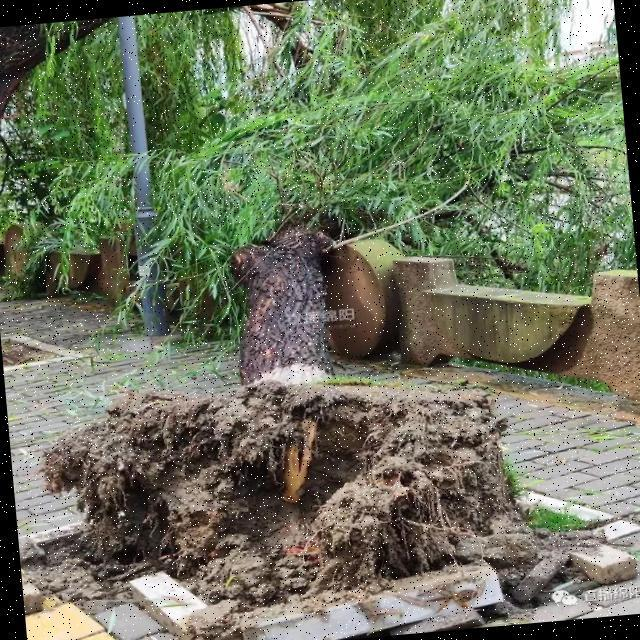fallen_object: (35, 1, 624, 528)
